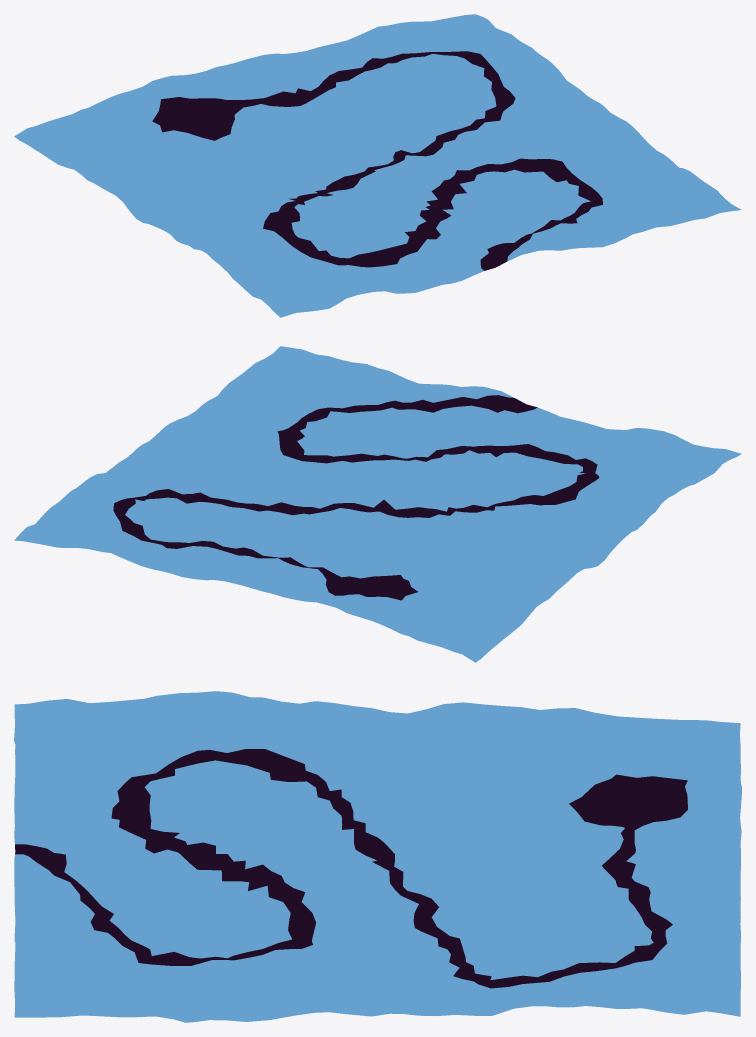
The model's file is WaterForLevel05.fbx.
3 views of the same model, one above another, from view 1: azimuth 30°, elevation 25°; view 2: azimuth 150°, elevation 25°; view 3: azimuth 270°, elevation 25° (orthographic). The views are drawn at different scales.
Parts seen in each view (by area): view 1: Plane; view 2: Plane; view 3: Plane.
Part boxes in pixels (x1,y1,x2,y2): Plane: (14,14,741,317); Plane: (14,346,741,662); Plane: (14,691,741,1022).
Size of the model in its own units: 50.89 by 3.22 by 50.94.
